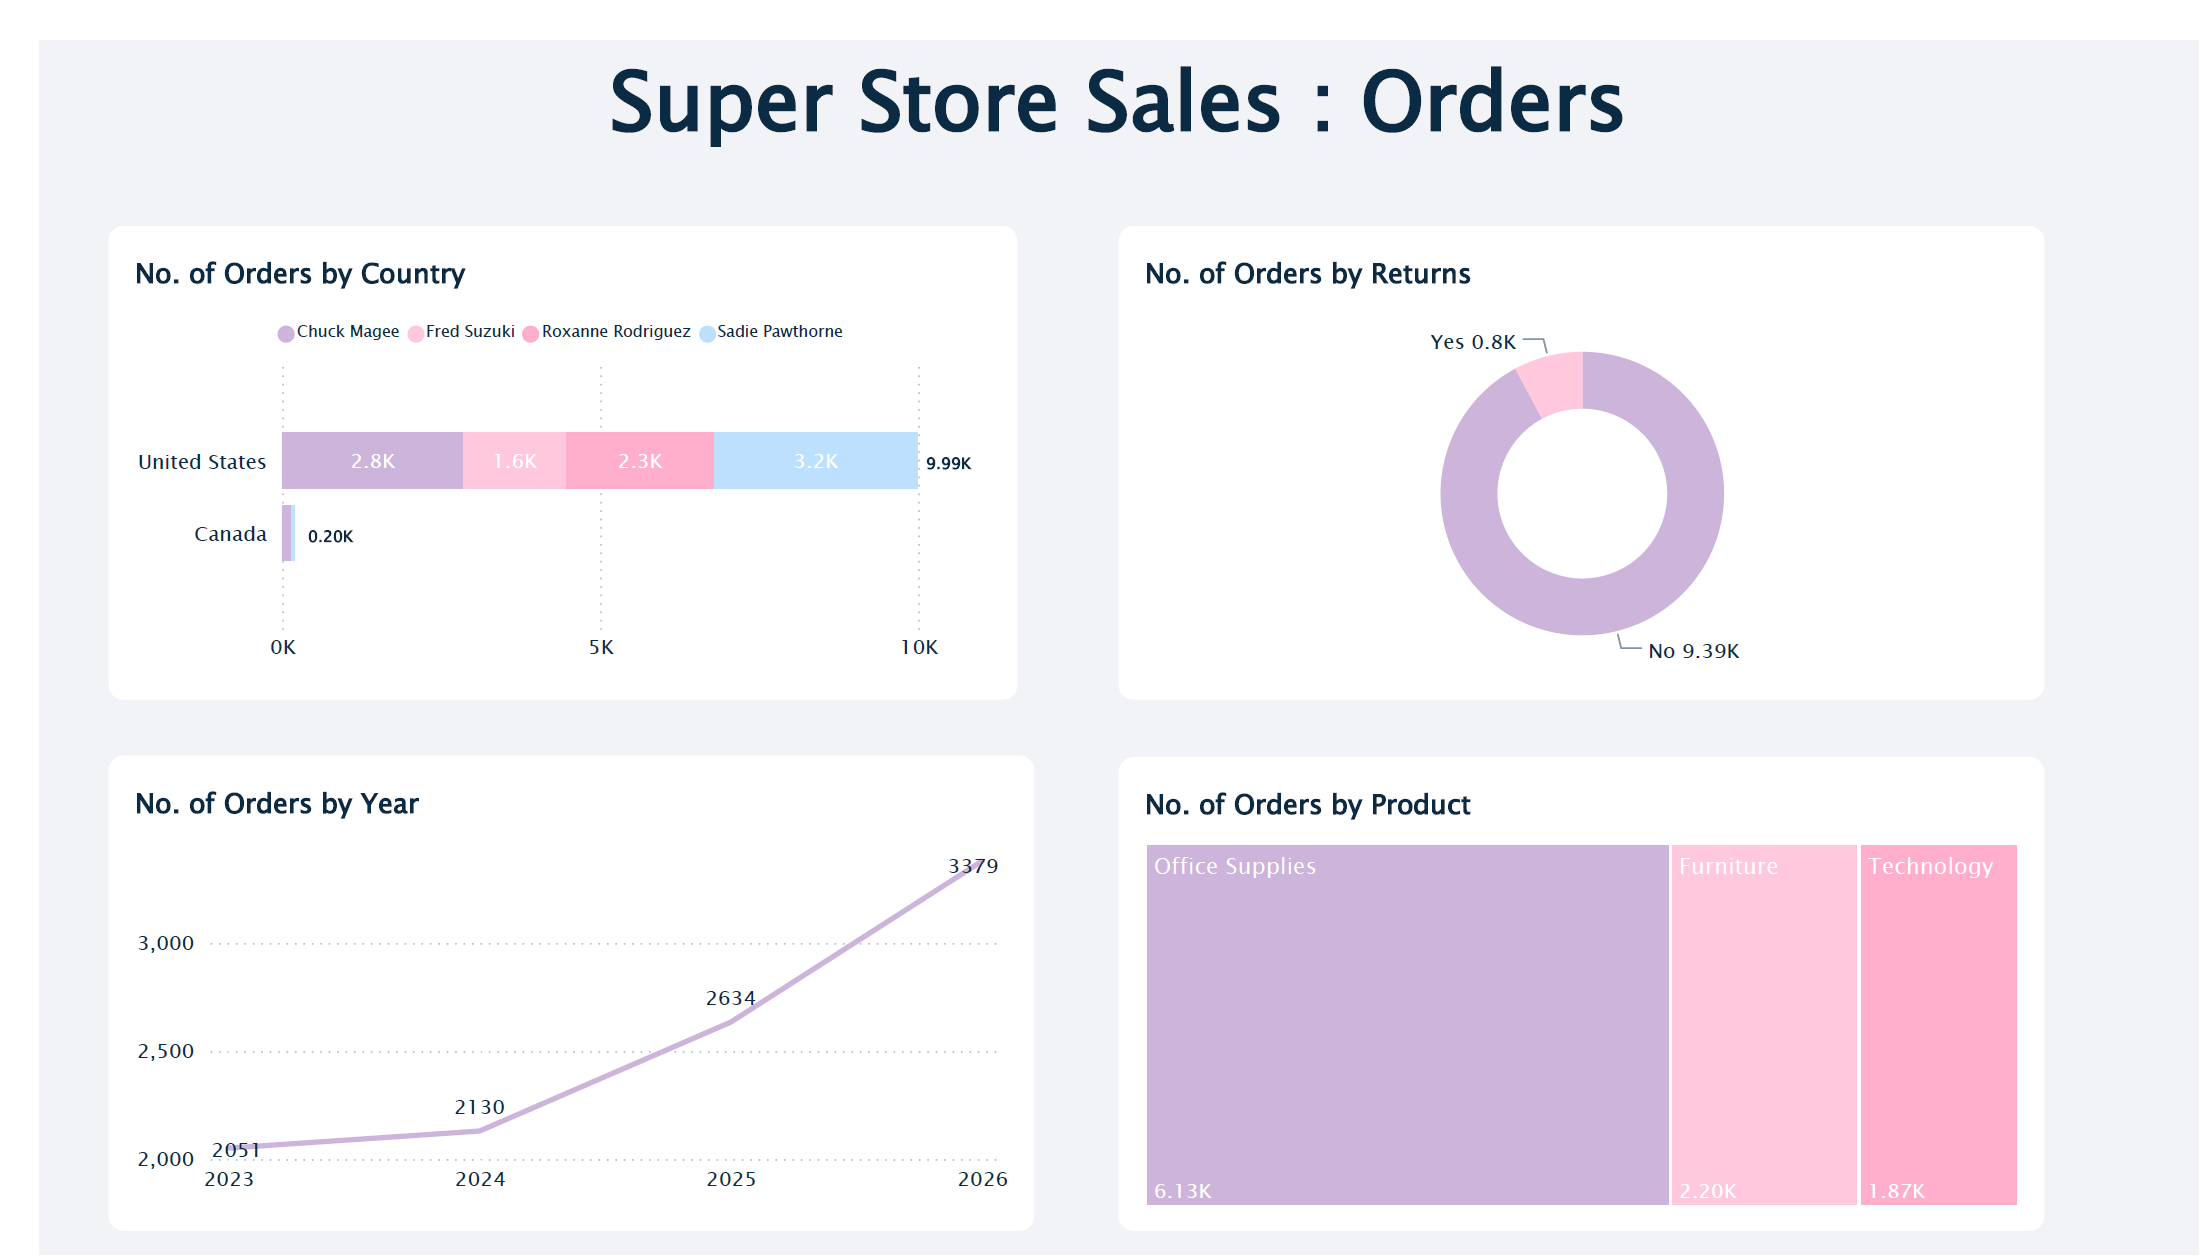

What the dashboard file says about the page in this screenshot:
{"tool":"powerbi","page":{"name":"Orders","canvas":[1280,720],"ordinal":0},"visuals":[{"type":"donutChart","title":"No. of Orders by Returns","fields":{"Y":["Box.Orders"],"Category":["FCT_ORDERS.IS_RETURNED"]},"box":[640.3,110,549,281],"z":0},{"type":"barChart","title":"No. of Orders by Country","fields":{"Category":["DIM_SUBREGION.COUNTRY","DIM_SUBREGION.STATE_PROVINCE","DIM_SUBREGION.CITY"],"Y":["Box.Orders"],"Series":["DIM_REGION.EMPLOYEE"]},"box":[41.2,110.3,539.1,281],"z":1},{"type":"treemap","title":"No. of Orders by Product","fields":{"Values":["Box.Orders"],"Group":["DIM_PRODUCT.PRODUCT_CATEGORY","DIM_PRODUCT.PRODUCT_SUBCATEGORY"]},"box":[640.3,424.7,549,281.7],"z":2},{"type":"lineChart","fields":{"Y":["Box.Orders"],"Category":["Dates.Year","Dates.Mon-Year"]},"box":[41.2,424.4,549,281.8],"z":3},{"type":"textbox","box":[106.9,0,1065.9,94.7],"z":5}]}

Visuals, with their boxes in screenshot pixels (x1, y1, x2, y2), scaled from the page's 1280x720 canvas onto the 2201x1260 screenshot:
"No. of Orders by Returns" donutChart: crop(1101, 192, 2045, 684)
"No. of Orders by Country" barChart: crop(71, 193, 998, 685)
"No. of Orders by Product" treemap: crop(1101, 743, 2045, 1236)
lineChart - Box.Orders x Dates.Year: crop(71, 743, 1015, 1236)
textbox: crop(184, 0, 2017, 166)
